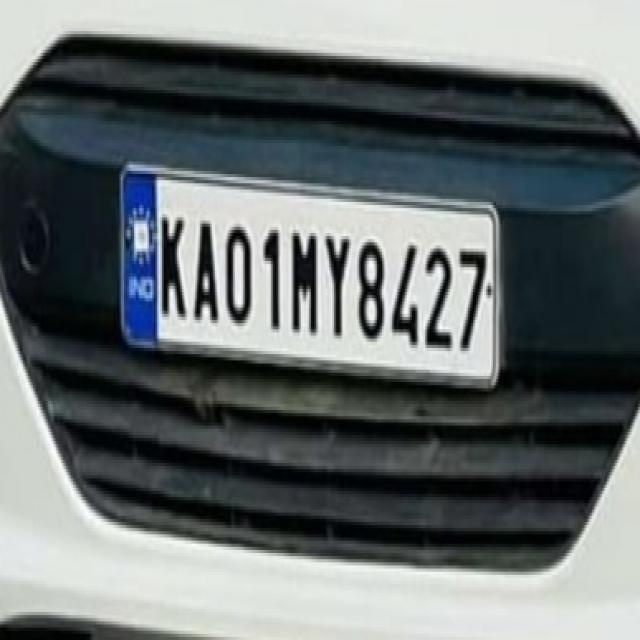0: (222, 218, 255, 331)
1: (258, 212, 288, 342)
4: (389, 234, 422, 354)
7: (456, 228, 488, 357)
8: (356, 234, 391, 352)
A: (190, 201, 222, 332)
K: (156, 195, 192, 330)
M: (288, 214, 320, 344)
Y: (322, 225, 354, 347)
